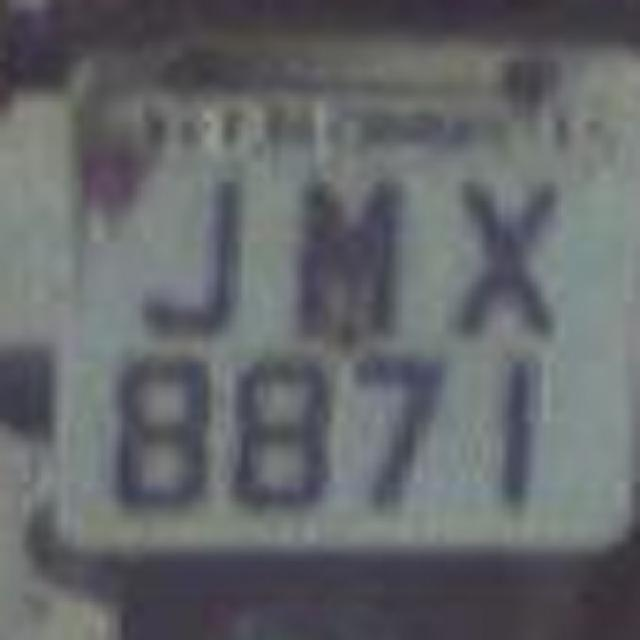1: (476, 335, 556, 500)
7: (344, 340, 464, 512)
8: (96, 329, 232, 536)
J: (132, 160, 260, 360)
K: (435, 152, 560, 356)
M: (268, 156, 420, 344)
X: (432, 148, 568, 340)
